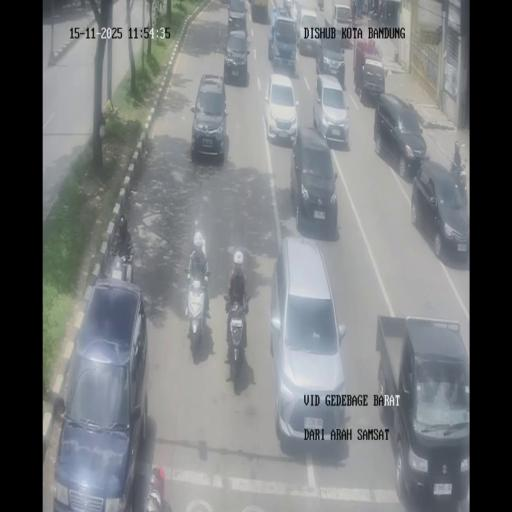car: (53, 274, 149, 508), (271, 234, 348, 452), (290, 124, 339, 232), (375, 93, 429, 179), (190, 73, 228, 161), (313, 73, 349, 147), (264, 72, 298, 146), (268, 8, 298, 76), (222, 29, 250, 84), (358, 56, 386, 105), (296, 7, 322, 57), (332, 2, 354, 46), (227, 0, 248, 34), (283, 0, 295, 18), (317, 0, 324, 11)
motorcycle: (183, 266, 212, 354), (222, 292, 250, 379), (108, 243, 134, 284), (451, 154, 468, 197), (378, 0, 386, 24)
truck: (374, 315, 468, 508), (250, 0, 270, 23)
